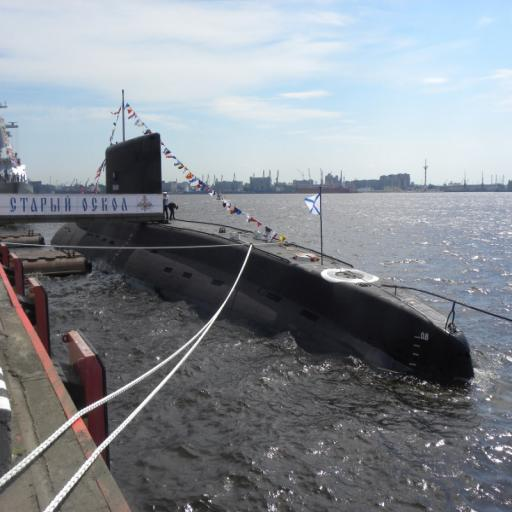submarine: (53, 133, 479, 388)
